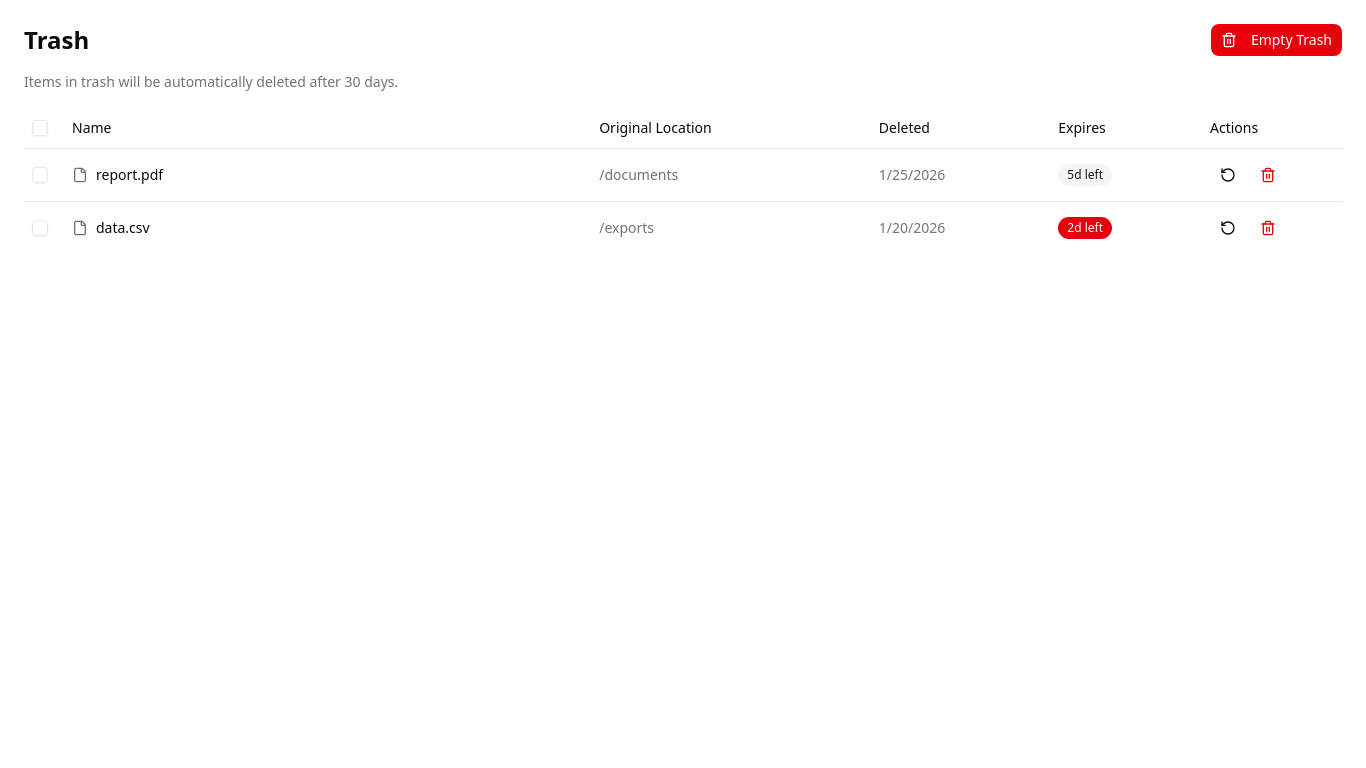
Test: TrashPage › should show bulk delete confirmation when Delete permanently is clicked from toolbar
The width and height of the screenshot is (1366, 768).
// Select an item first
Step 1. Click the checkbox named "Select report.pdf" → (40, 174), box [32,166,48,182]
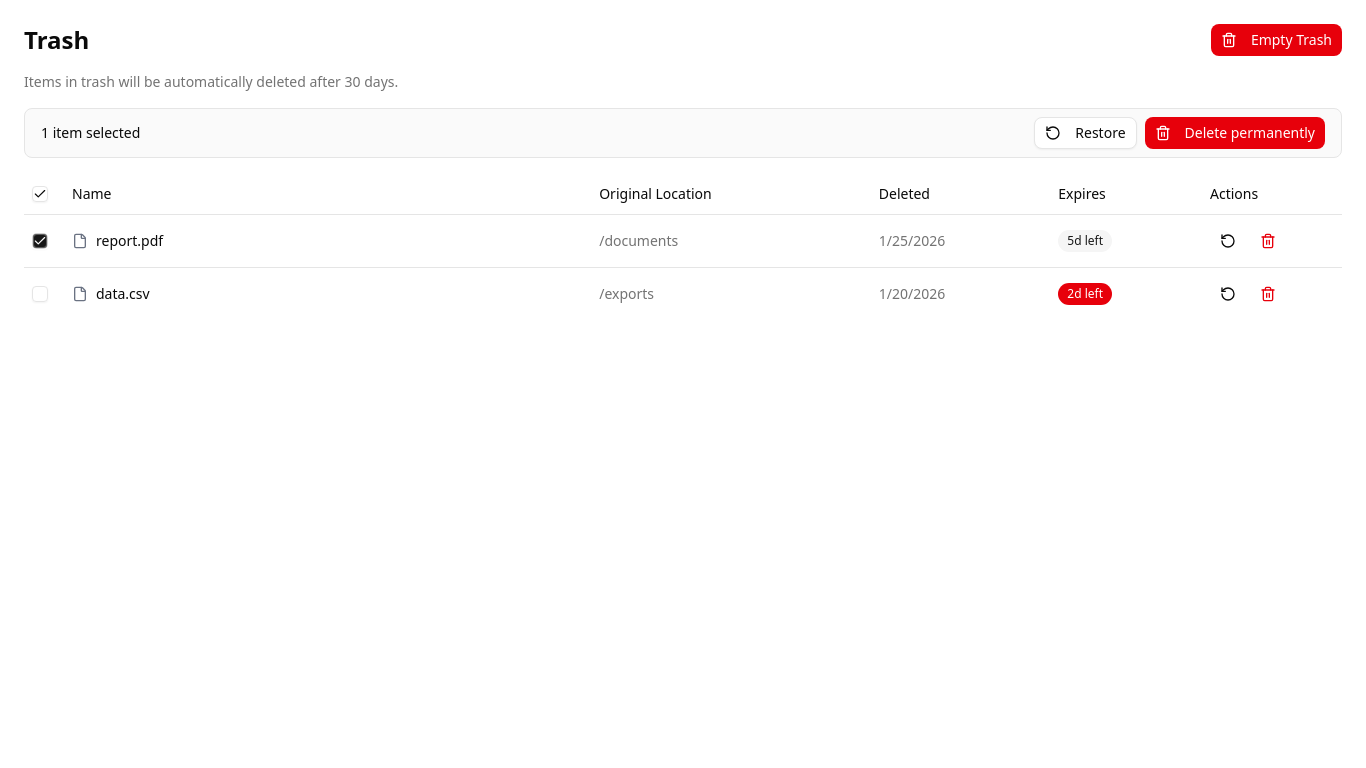
// Click "Delete permanently" in the toolbar
Step 2. Click the button "Delete permanently" → (1235, 133), box [1144,117,1325,149]
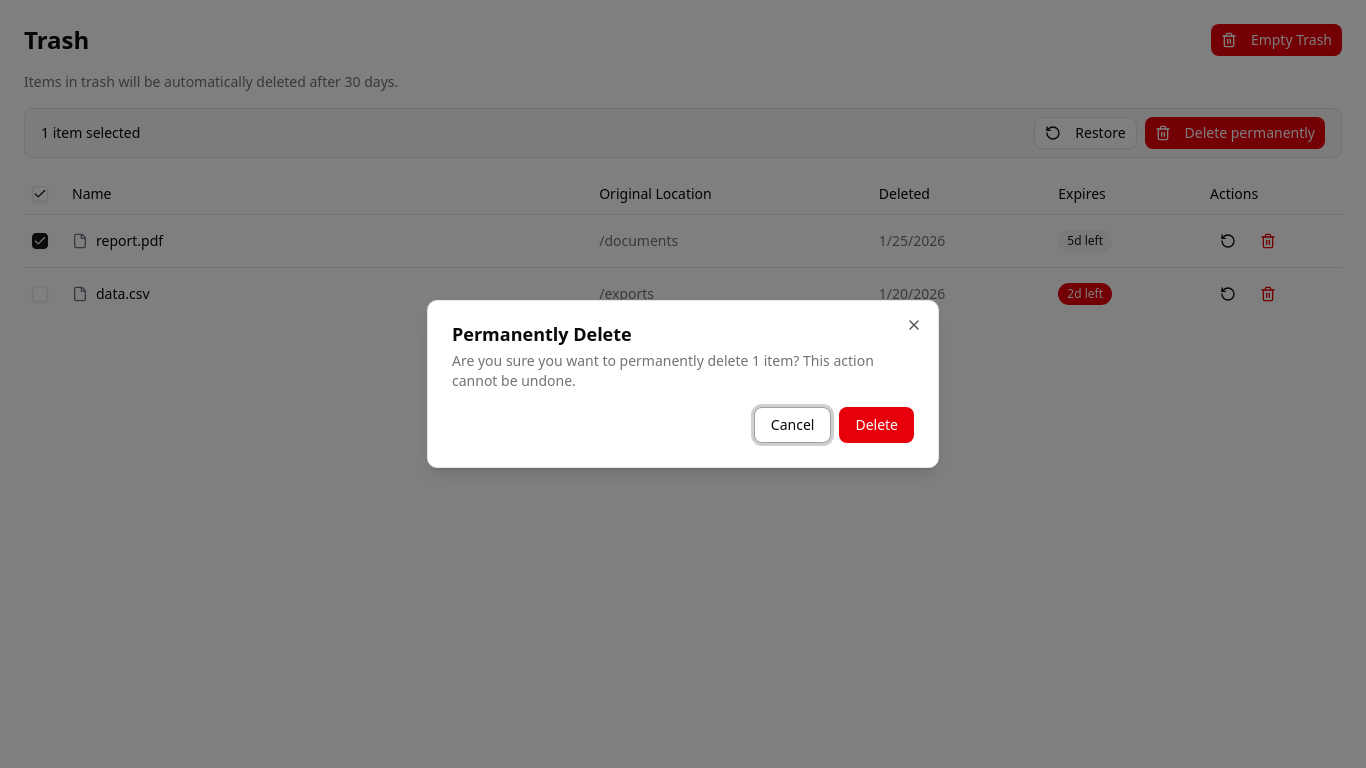
Expected: the text "Are you sure you want to permanently delete 1 item?" is shown, [452,351,914,391]
